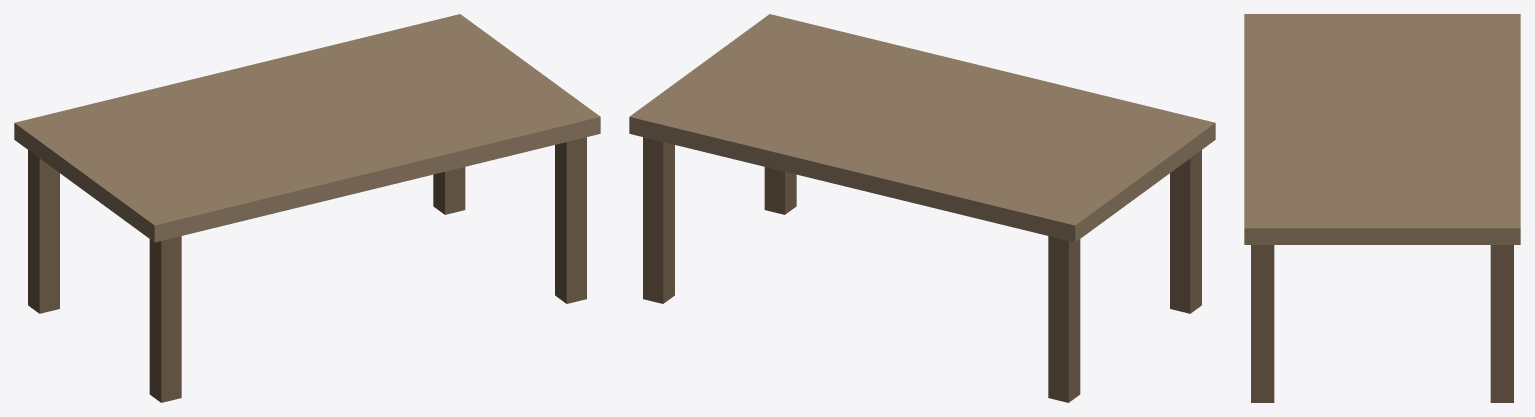
File: tableCoffee.glb
3 renders of one model, left to right at view 1: azimuth 30°, elevation 25°; view 2: azimuth 150°, elevation 25°; view 3: azimuth 270°, elevation 25°, orthographic.
Bounding box in the file's own units: 1.1 × 0.43 × 0.6.
